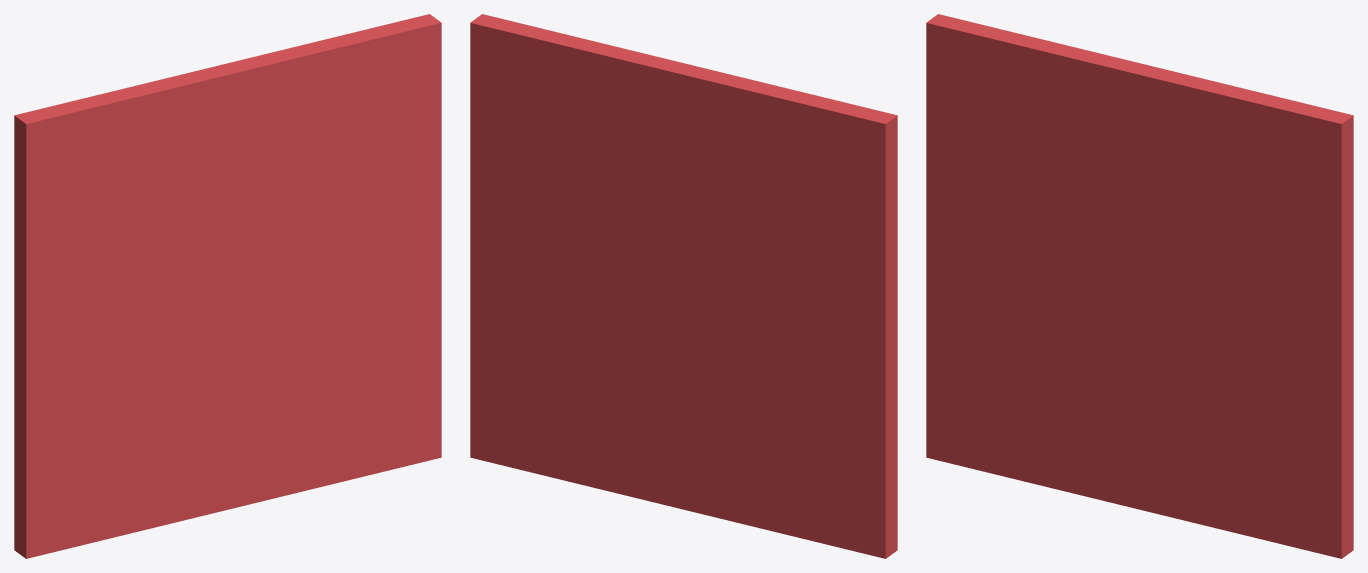
File: balise2.glb
3 renders of one model, left to right at view 1: azimuth 30°, elevation 25°; view 2: azimuth 150°, elevation 25°; view 3: azimuth 330°, elevation 25°, orthographic.
Visible parts, largest first — view 1: Cube.004; view 2: Cube.004; view 3: Cube.004.
Part boxes in pixels (x1=…): Cube.004: x1=14, y1=14, x2=441, y2=558; Cube.004: x1=470, y1=14, x2=897, y2=558; Cube.004: x1=926, y1=14, x2=1353, y2=558.
Size of the model in its own units: 2 by 2 by 0.1.
